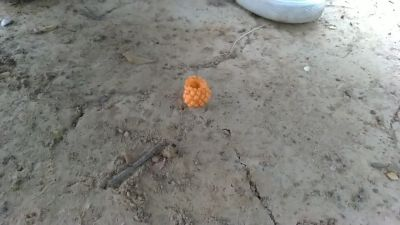eggs: (185, 77, 211, 112)
